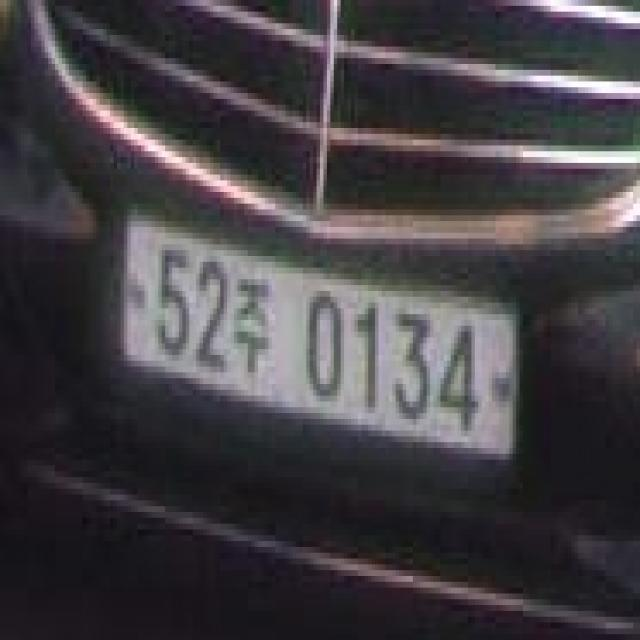0: (300, 286, 348, 402)
1: (351, 301, 382, 421)
2: (196, 258, 230, 375)
3: (391, 306, 434, 428)
4: (436, 322, 482, 439)
5: (152, 237, 194, 365)
ju: (233, 273, 273, 387)
license_plate: (110, 190, 532, 492)
